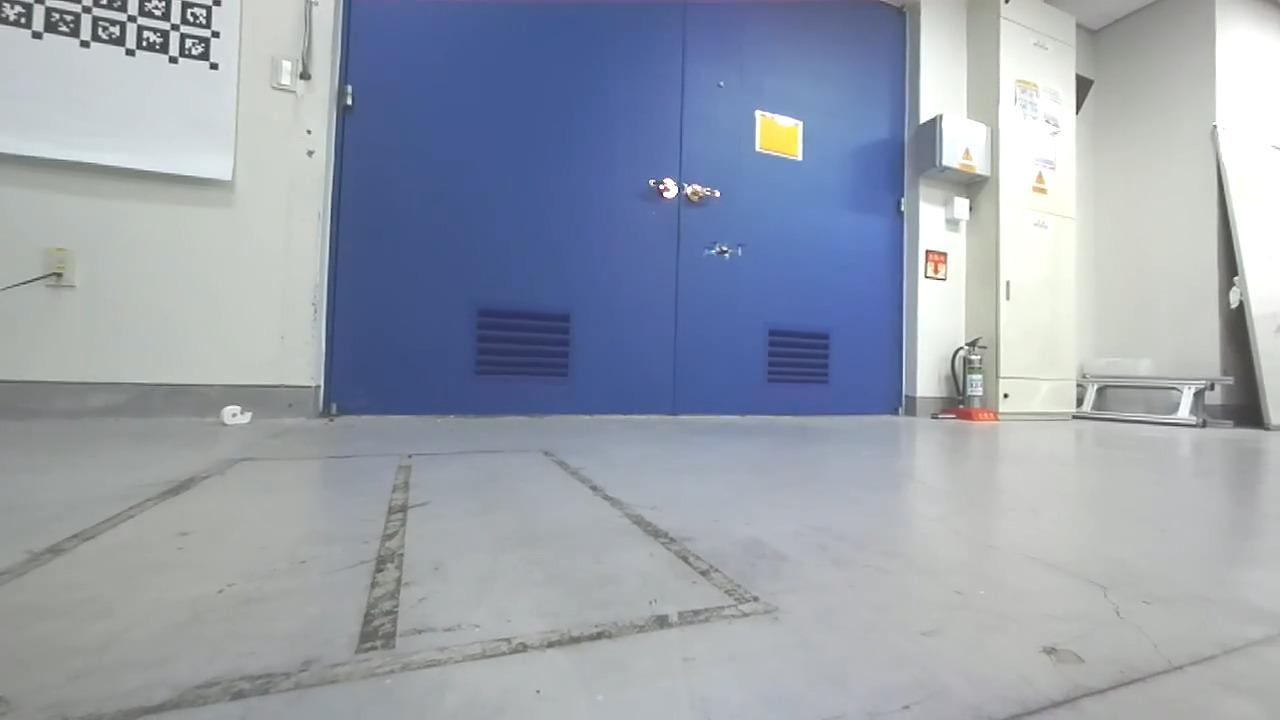crazyflie: (694, 235, 749, 265)
